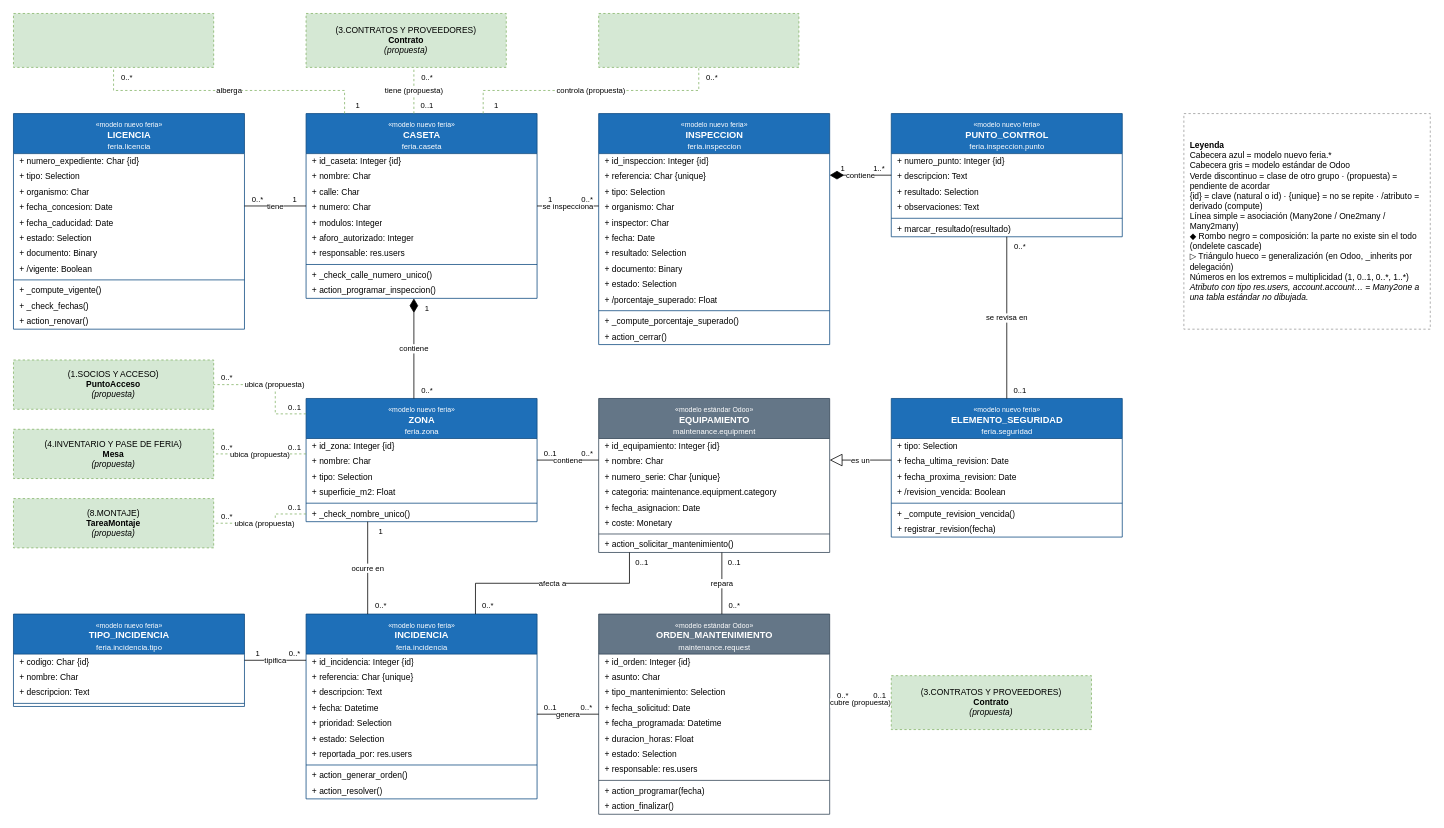
Image size: 1444x828. Some labels were removed from this diagram. The shapes that lost their labels are listed below. From the top down, each one's centre as x and y in pixels, then its label:
point (113, 40): (6.EVENTOS) Evento
point (698, 40): (1.SOCIOS Y ACCESO) ControlAforo (propuesta)
